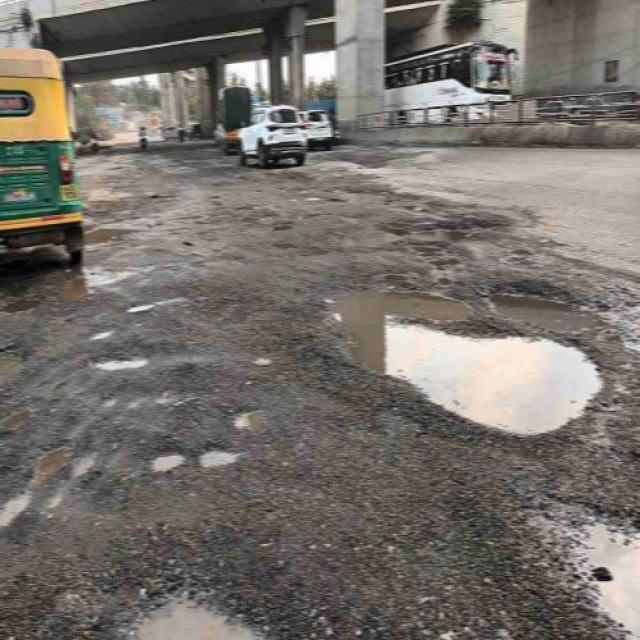Pothole: (314, 268, 616, 447), (79, 559, 301, 640), (533, 477, 640, 640), (0, 427, 96, 545), (377, 203, 520, 265), (0, 264, 152, 316), (120, 289, 192, 322), (86, 349, 160, 375), (228, 403, 271, 434), (192, 445, 244, 469), (148, 450, 186, 474), (77, 327, 117, 343), (248, 353, 278, 368)
